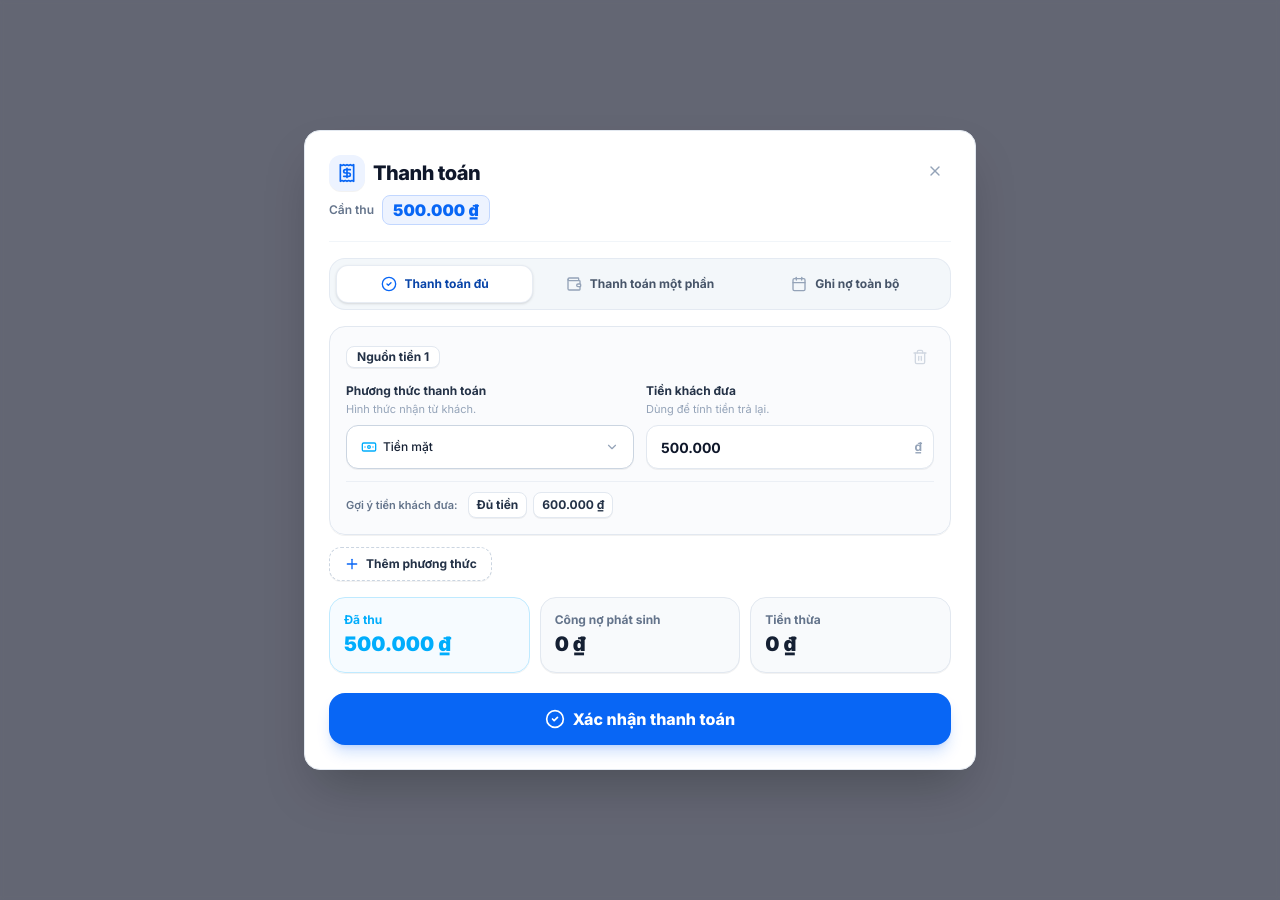
it: PaymentDialog › resets to a valid full cash payment when switching back to full
The image size is (1280, 900).
Click the button "Ghi nợ toàn bộ".
click(845, 284)  # box [747,265,944,303]
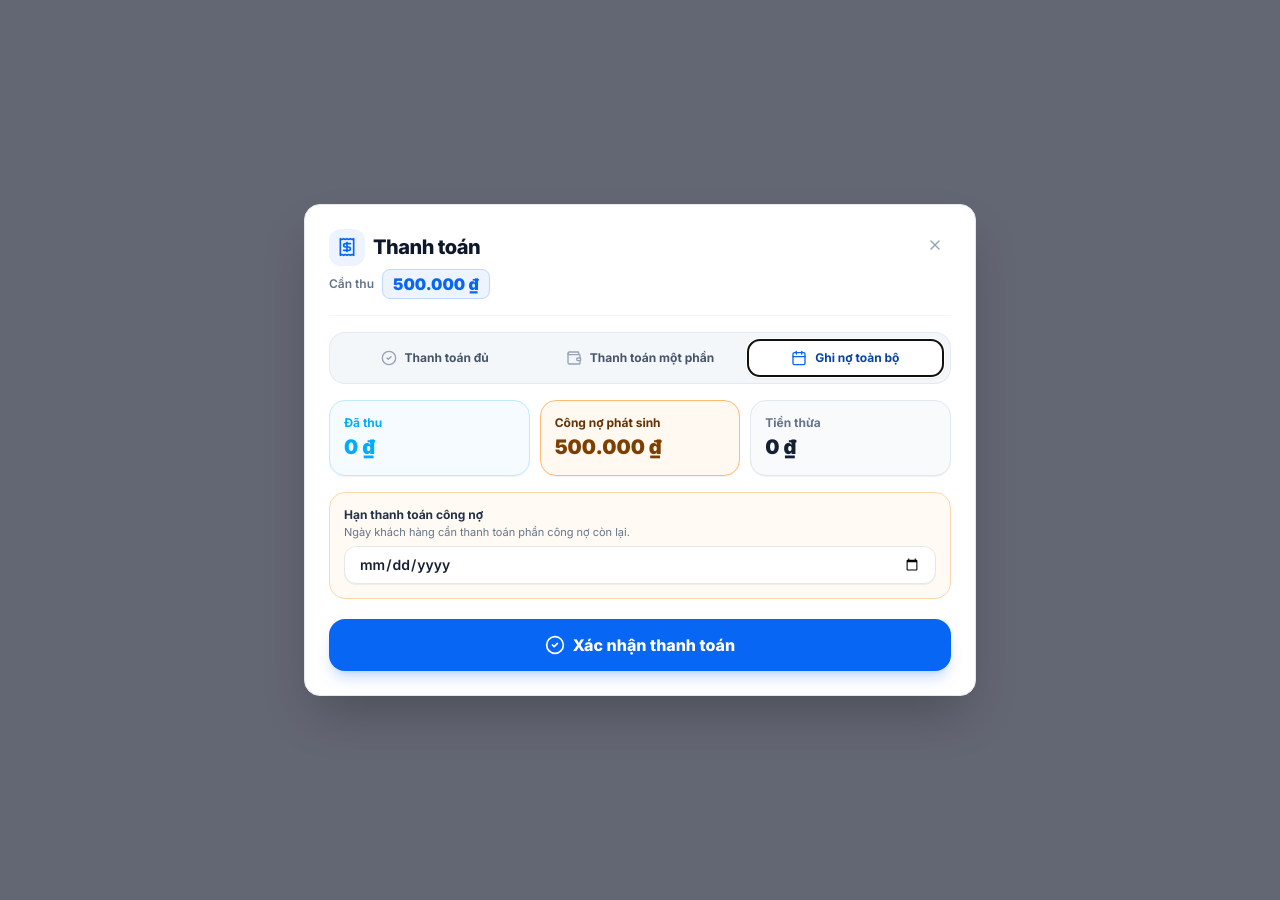
Click the button "Thanh toán đủ".
click(435, 358)  # box [336,339,533,377]
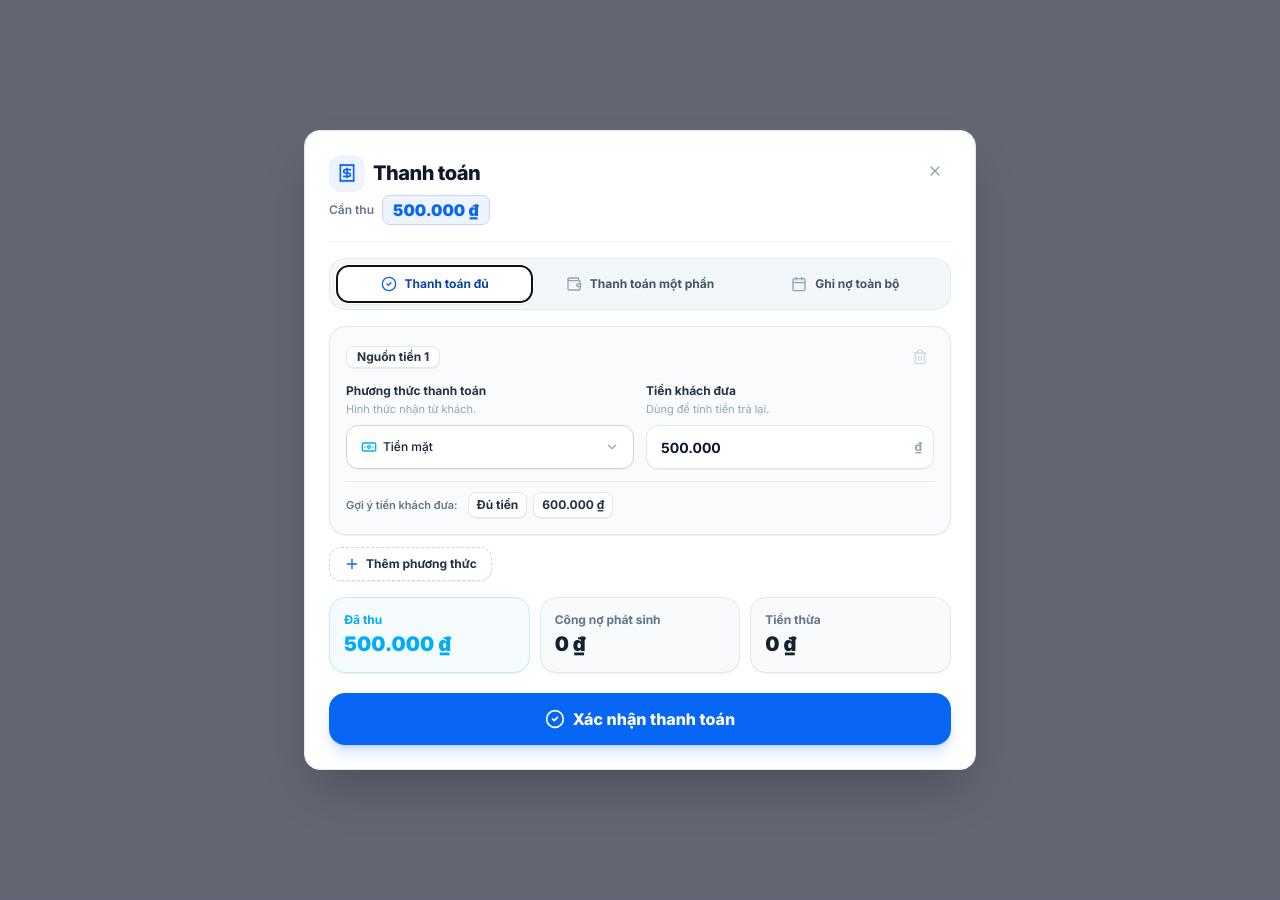
Expected: the field labelled "Tiền khách đưa" holds "500.000", [646,425,934,469]
